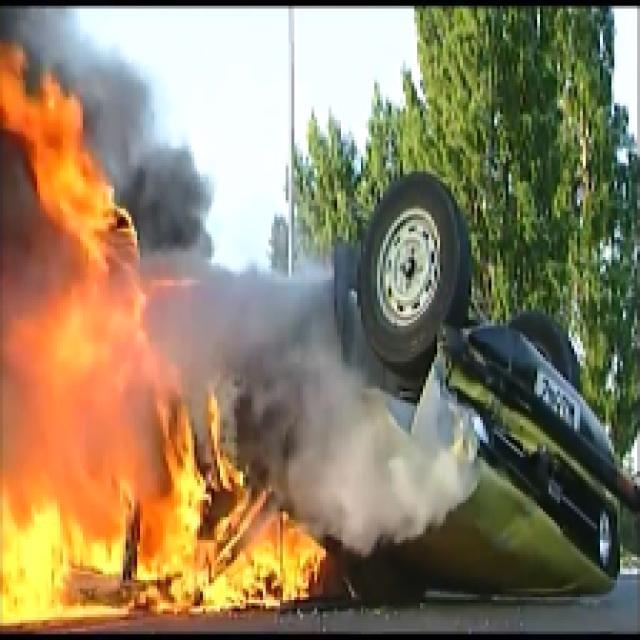Fire: (3, 46, 326, 628)
Smoke: (172, 257, 412, 526)
